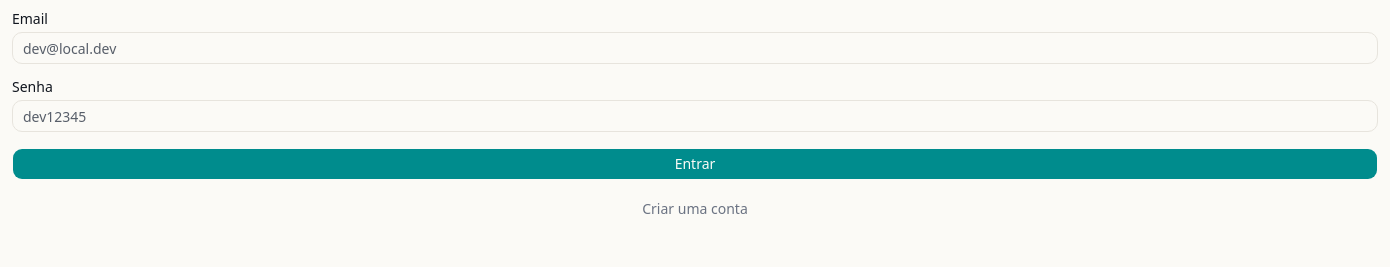
CredentialsForm › surfaces a server error without navigating
In the field labelled "Email": point(695, 48) [12,32,1378,64], type "x@local"
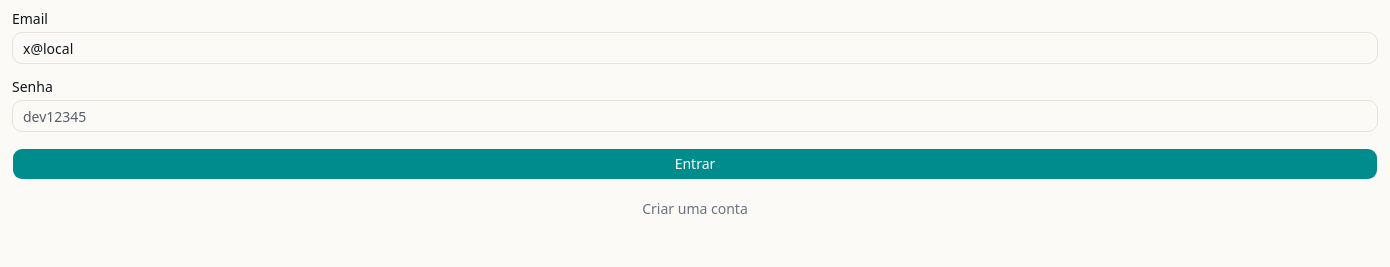
In the password field labelled "Senha": point(695, 116) [12,100,1378,132], type "wrong"
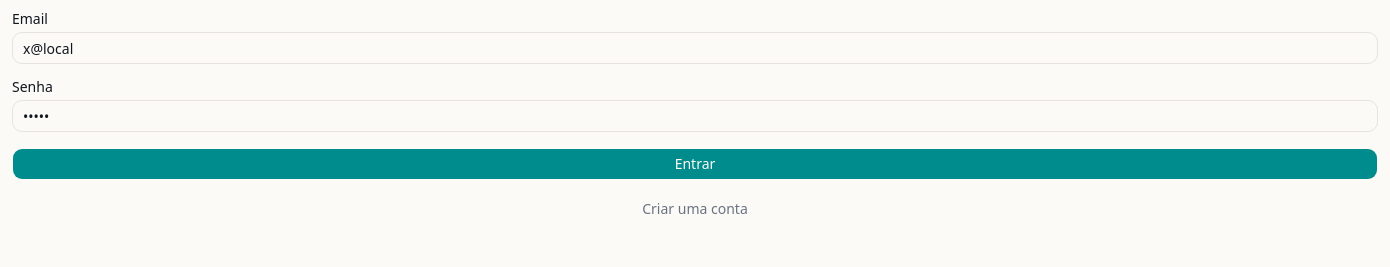
Click the button "Entrar": point(695, 164) [12,148,1378,180]
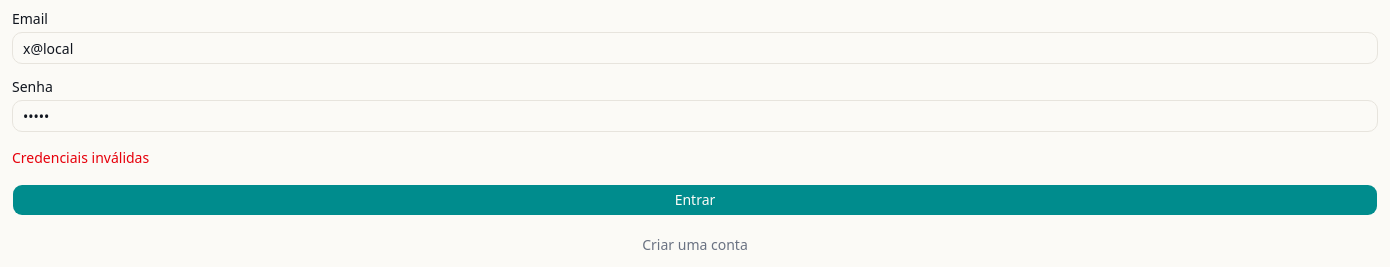
Expected: the text "Credenciais inválidas" is shown, [12,148,149,167]
